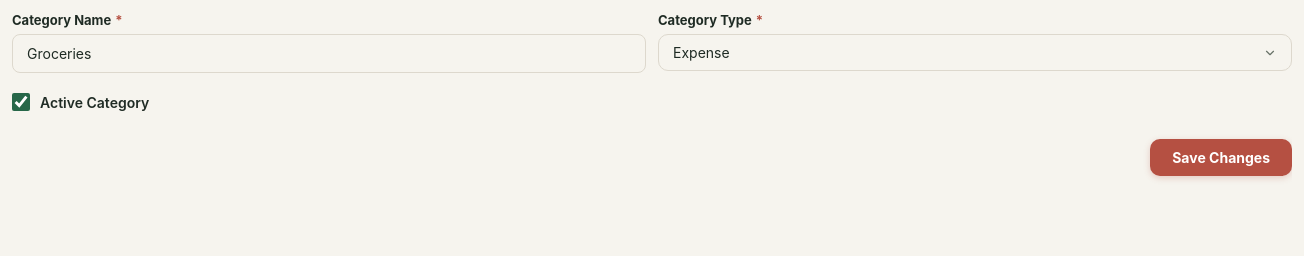
Test case: EditCategoryForm › displays server error message when update action fails
What coordinates should you click on to do the following:
click the button "Save Changes"
I would click on:
 (1221, 158)
Its box is x1=1150 y1=139 x2=1292 y2=176.
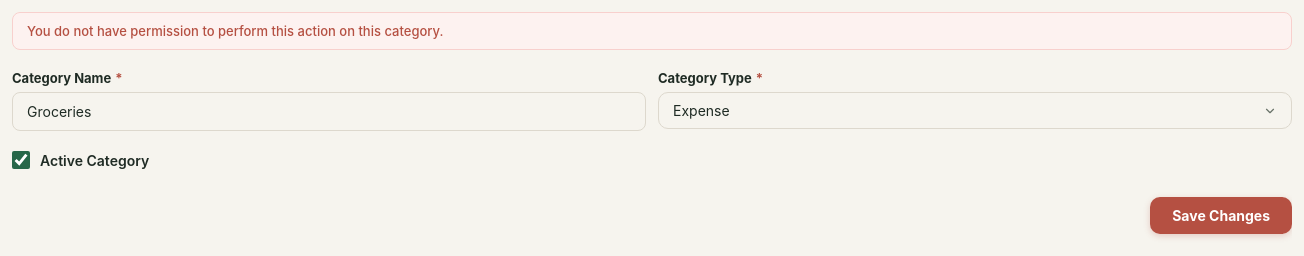
Now the text "You do not have permission to perform this action on this category." is shown, box x1=12 y1=12 x2=1292 y2=50
